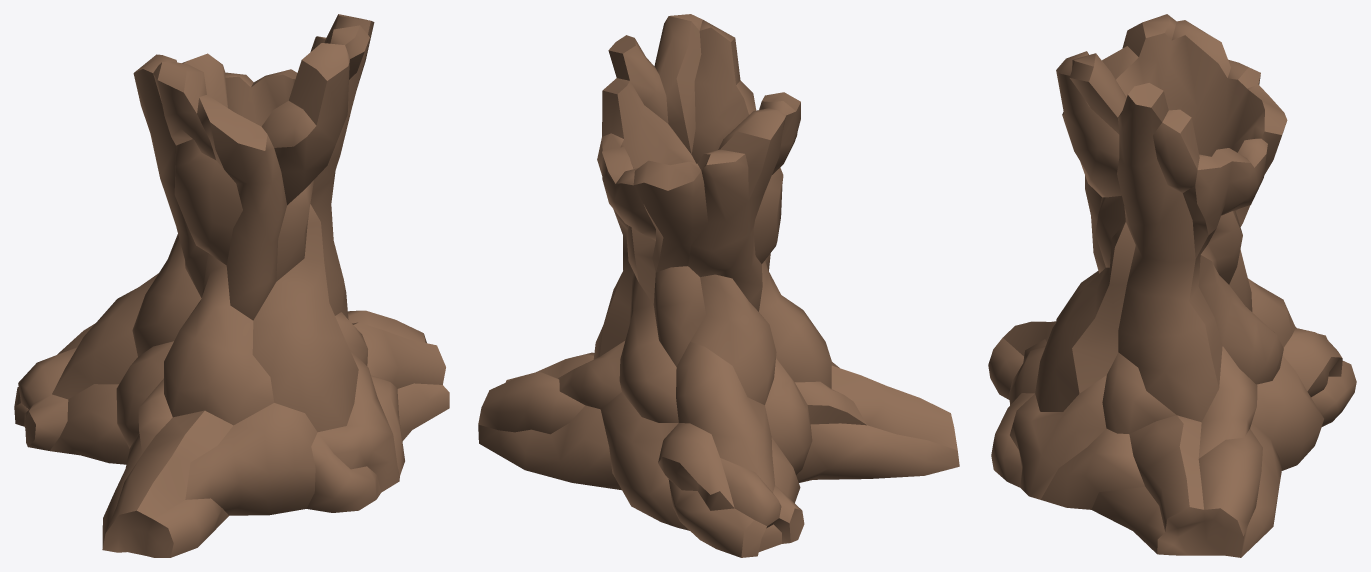
File: SM_Magic_Stump.fbx
3 views of the same model, side by side, from view 1: azimuth 30°, elevation 25°; view 2: azimuth 150°, elevation 25°; view 3: azimuth 270°, elevation 25° (orthographic). The views are drawn at different scales.
Visible parts, largest first — view 1: SM_Magic_Stump; view 2: SM_Magic_Stump; view 3: SM_Magic_Stump.
Part boxes in pixels (x1=…): SM_Magic_Stump: x1=14, y1=14, x2=449, y2=557; SM_Magic_Stump: x1=478, y1=14, x2=959, y2=557; SM_Magic_Stump: x1=988, y1=14, x2=1356, y2=557.
Size of the model in its own units: 0.7011 by 0.7108 by 0.5488.
